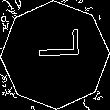L_W: (29, 39, 81, 71)
